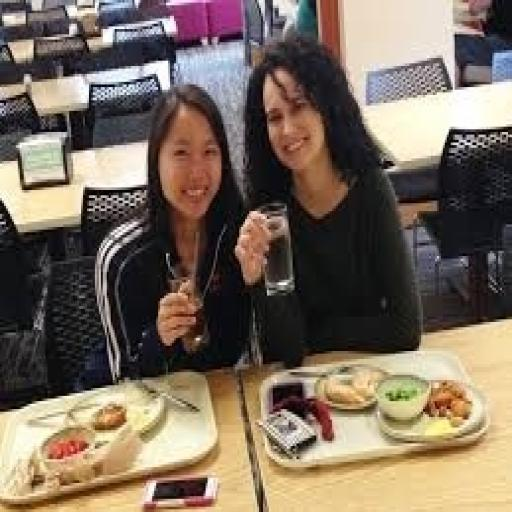eating: (91, 29, 425, 375)
